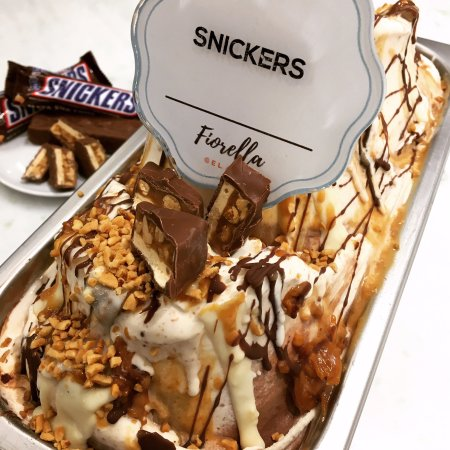snickers: (2, 57, 86, 125), (5, 57, 86, 122), (5, 60, 86, 122), (34, 73, 134, 113)
